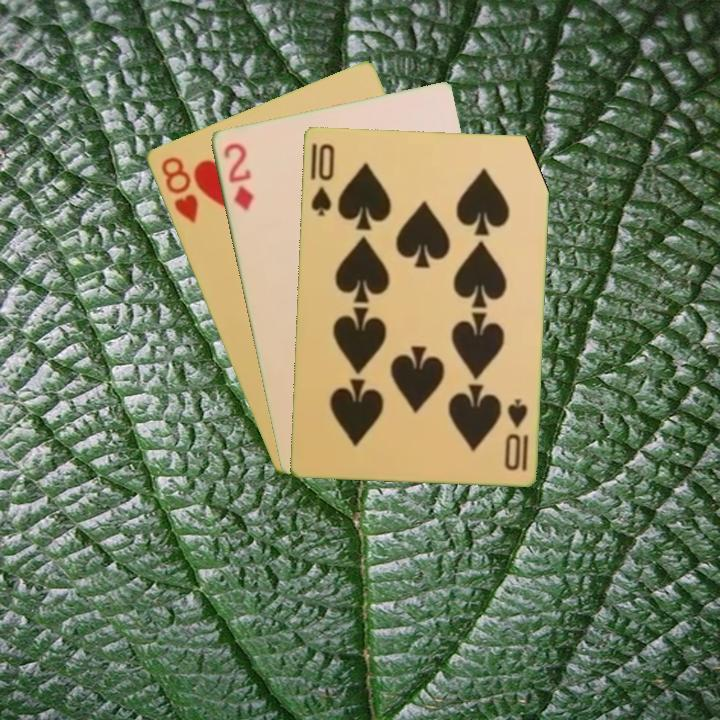10s: (501, 394, 531, 474), (307, 139, 337, 218)
2d: (219, 139, 256, 213)
8h: (157, 153, 201, 226)
